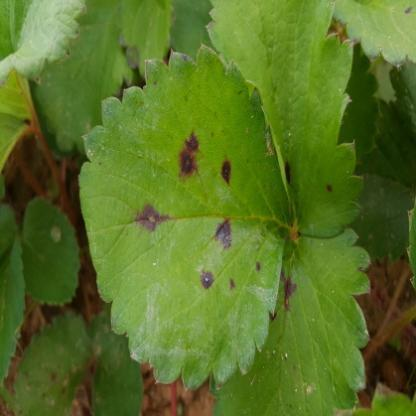Strawberry_Leaf_Spot: (78, 43, 296, 392), (204, 0, 366, 238), (208, 228, 372, 415), (12, 310, 95, 415), (328, 0, 415, 68)
